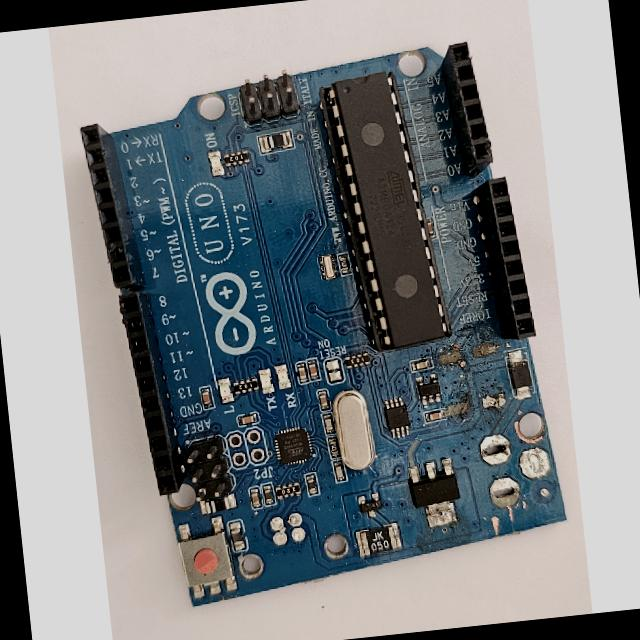missing_capacitors: (433, 330, 517, 428)
missing_eps: (468, 423, 546, 518)
missing_usb: (245, 493, 357, 584)
